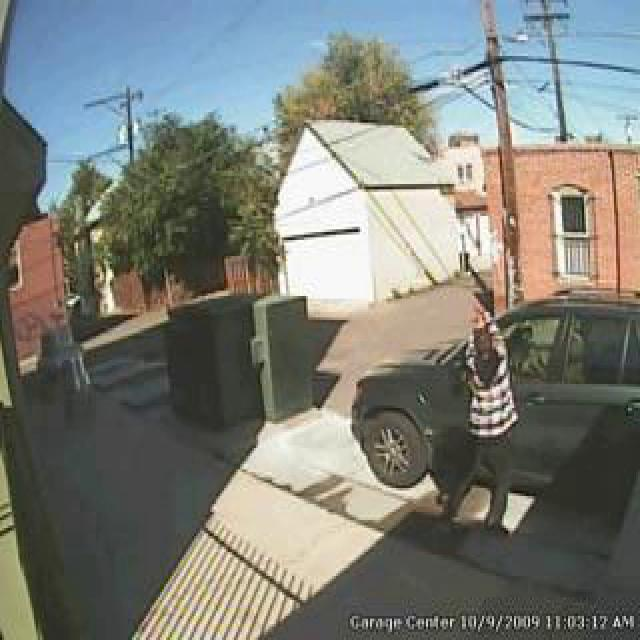stealing: (322, 108, 593, 622)
